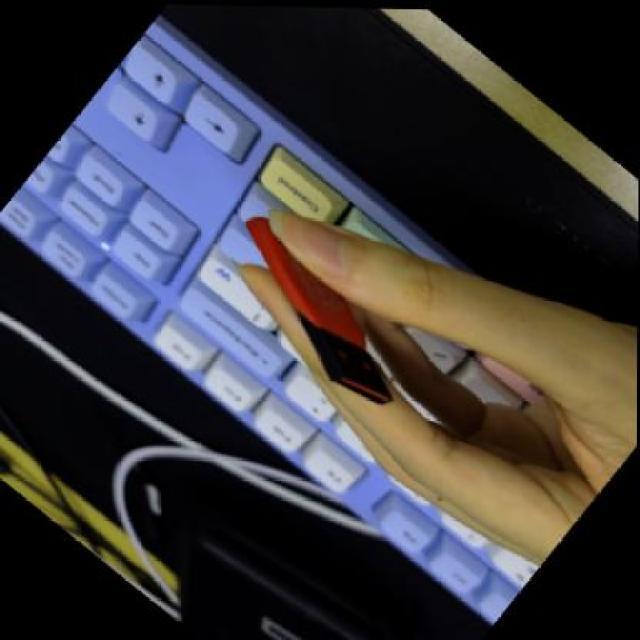Flashdisk: (197, 203, 434, 419)
